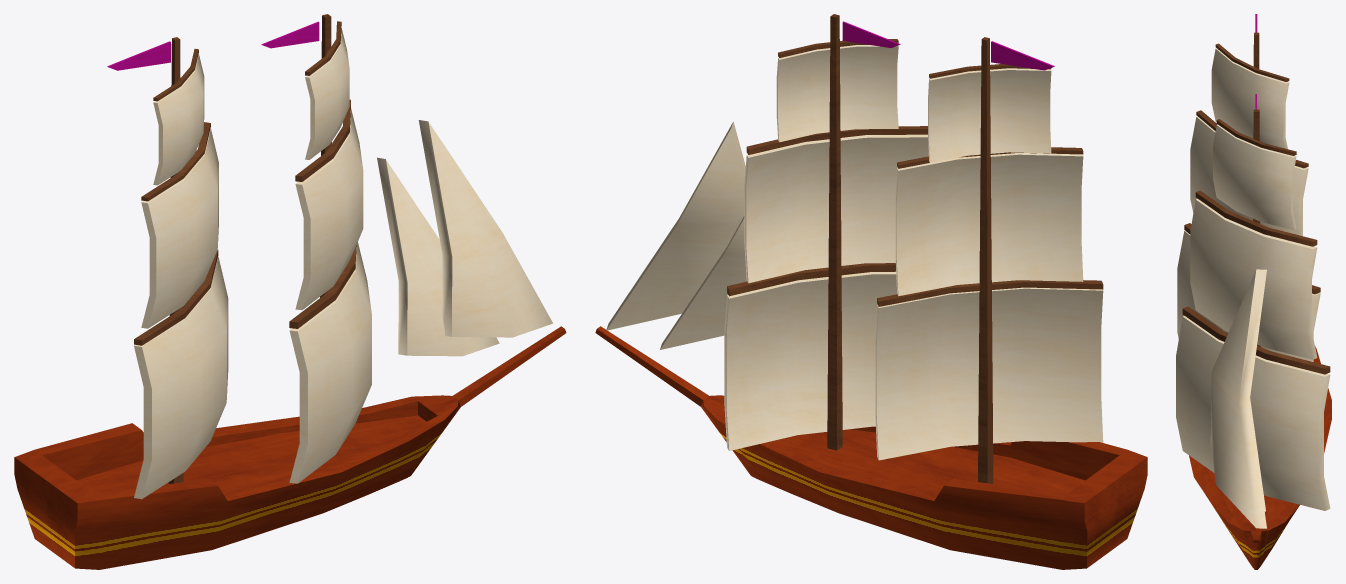
The model's file is ship example 1.fbx.
The picture shows the model from 3 angles, left to right: view 1: azimuth 30°, elevation 25°; view 2: azimuth 150°, elevation 25°; view 3: azimuth 270°, elevation 25°; orthographic projection. The views are drawn at different scales.
Visible parts, largest first — view 1: Cube; view 2: Cube; view 3: Cube.
Boxes of the visible parts, box(x1,y1,x2,y2) form: Cube: box(14, 14, 566, 569); Cube: box(595, 14, 1147, 569); Cube: box(1176, 14, 1331, 569).
Bounding box in the file's own units: 699 × 636 × 206.
